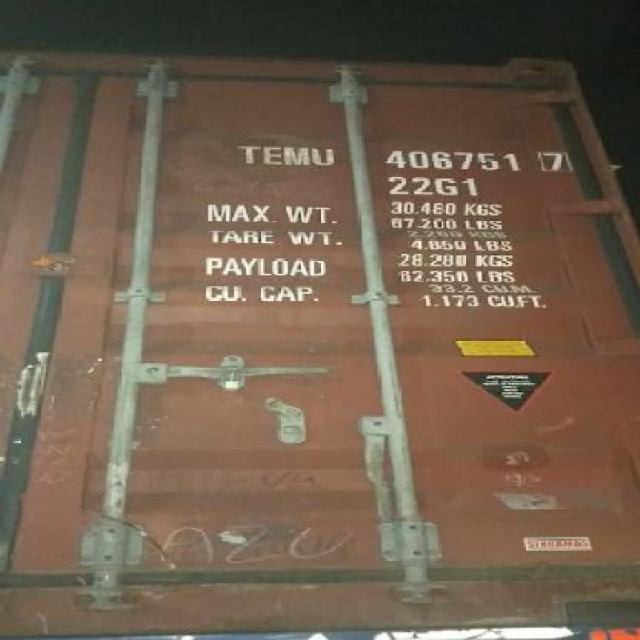ISO: (382, 176, 484, 200)
container_number: (234, 136, 564, 170)
